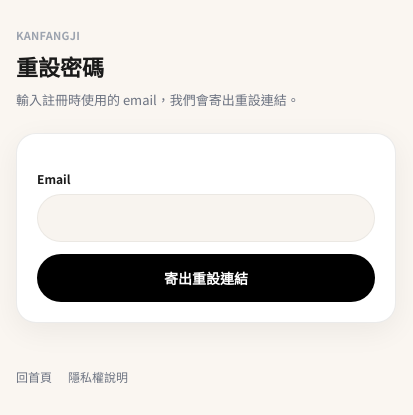
Test: forgot password confirmation › shows a generic error when the request never leaves the browser
The width and height of the screenshot is (413, 415).
Type "buyer@example.com" into the field labelled "Email".
click(206, 218); type("buyer@example.com")  # box top-left (37, 194), bottom-right (375, 242)
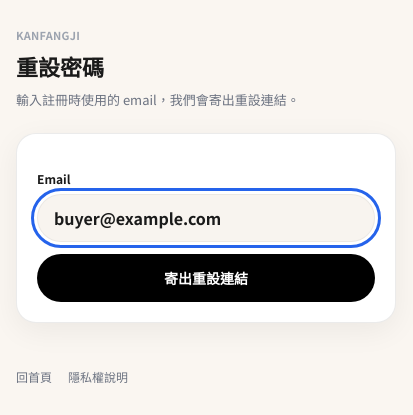
Click the button "寄出重設連結".
click(206, 278)  # box top-left (37, 254), bottom-right (375, 302)
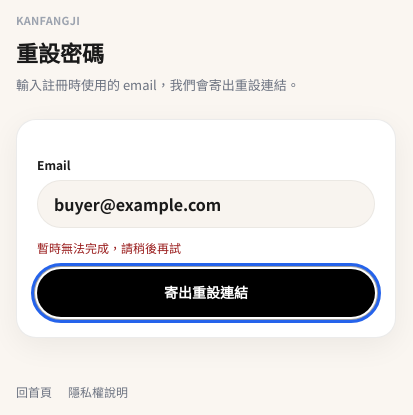
Now the message reads "暫時無法完成，請稍後再試", box top-left (37, 239), bottom-right (181, 256)
